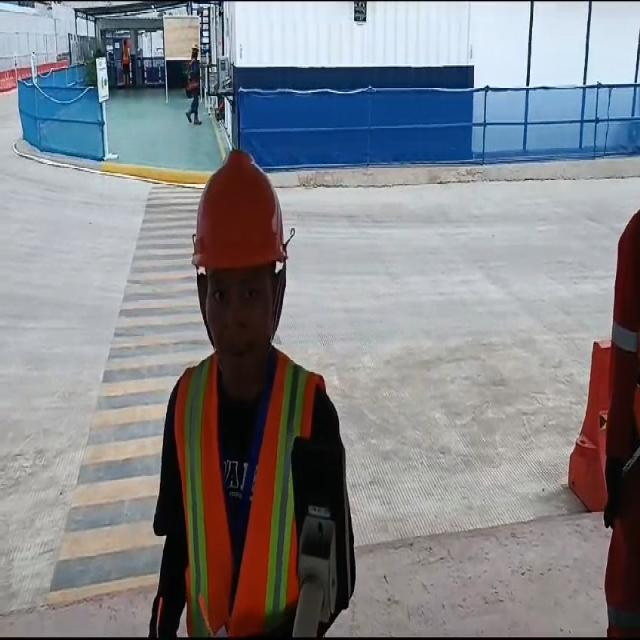helmet: (192, 146, 282, 276)
safety_vest: (179, 369, 306, 640)
